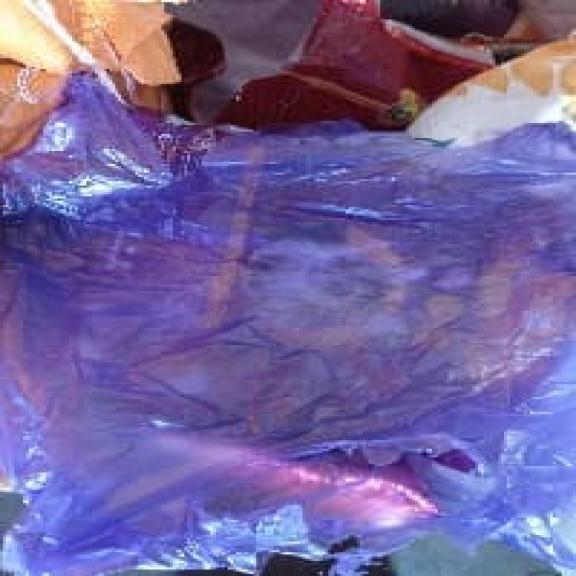Plastik: (6, 74, 574, 574)
